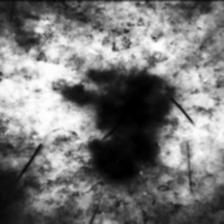Potentially Malignant Skin Tumors: (77, 78, 159, 180)
